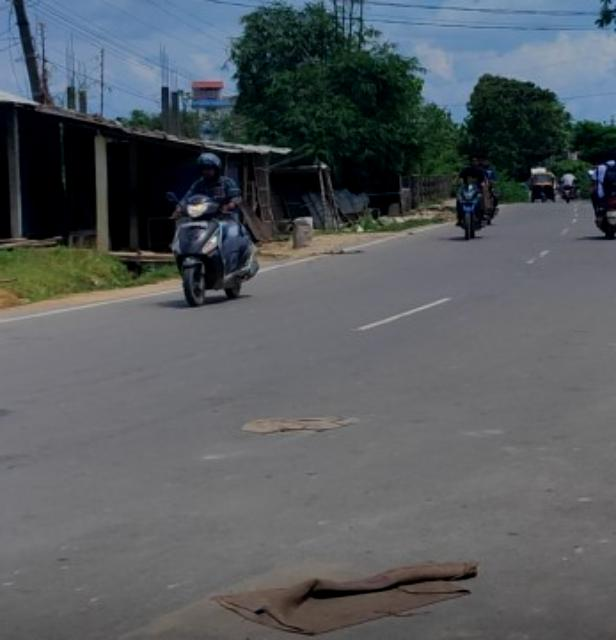licensePlate: (175, 215, 211, 232)
motorcycle: (162, 152, 260, 307)
withHelmet: (189, 156, 221, 180)
